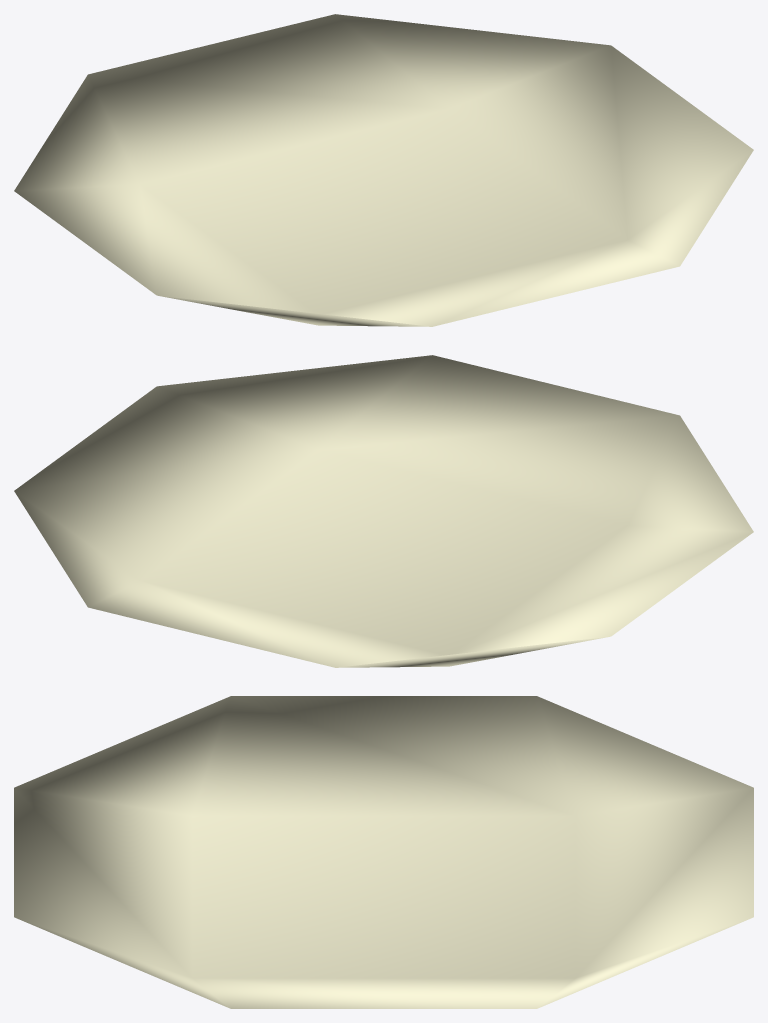
The model's file is Cooking_Plate.glb.
3 renders of one model, top to bottom at view 1: azimuth 30°, elevation 25°; view 2: azimuth 150°, elevation 25°; view 3: azimuth 270°, elevation 25°, orthographic. The views are drawn at different scales.
Visible parts, largest first — view 1: Cooking Plate; view 2: Cooking Plate; view 3: Cooking Plate.
Boxes of the visible parts, <box> form: Cooking Plate: <box>14,14,753,326</box>; Cooking Plate: <box>14,355,753,667</box>; Cooking Plate: <box>14,696,753,1008</box>.
Bounding box in the file's own units: 0.3 × 0.025 × 0.3.
